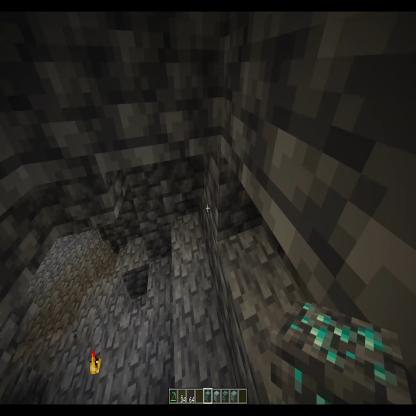diamond ore: (270, 301, 414, 416)
